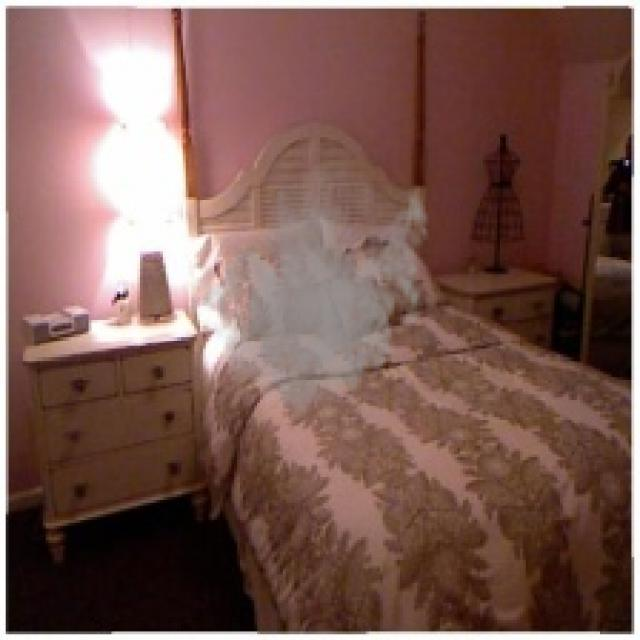smoke: (200, 154, 434, 423)
